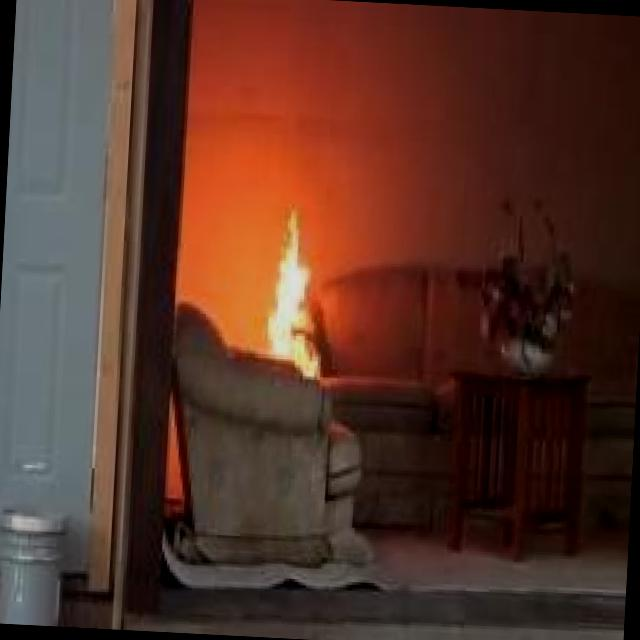fire: (215, 182, 338, 380)
